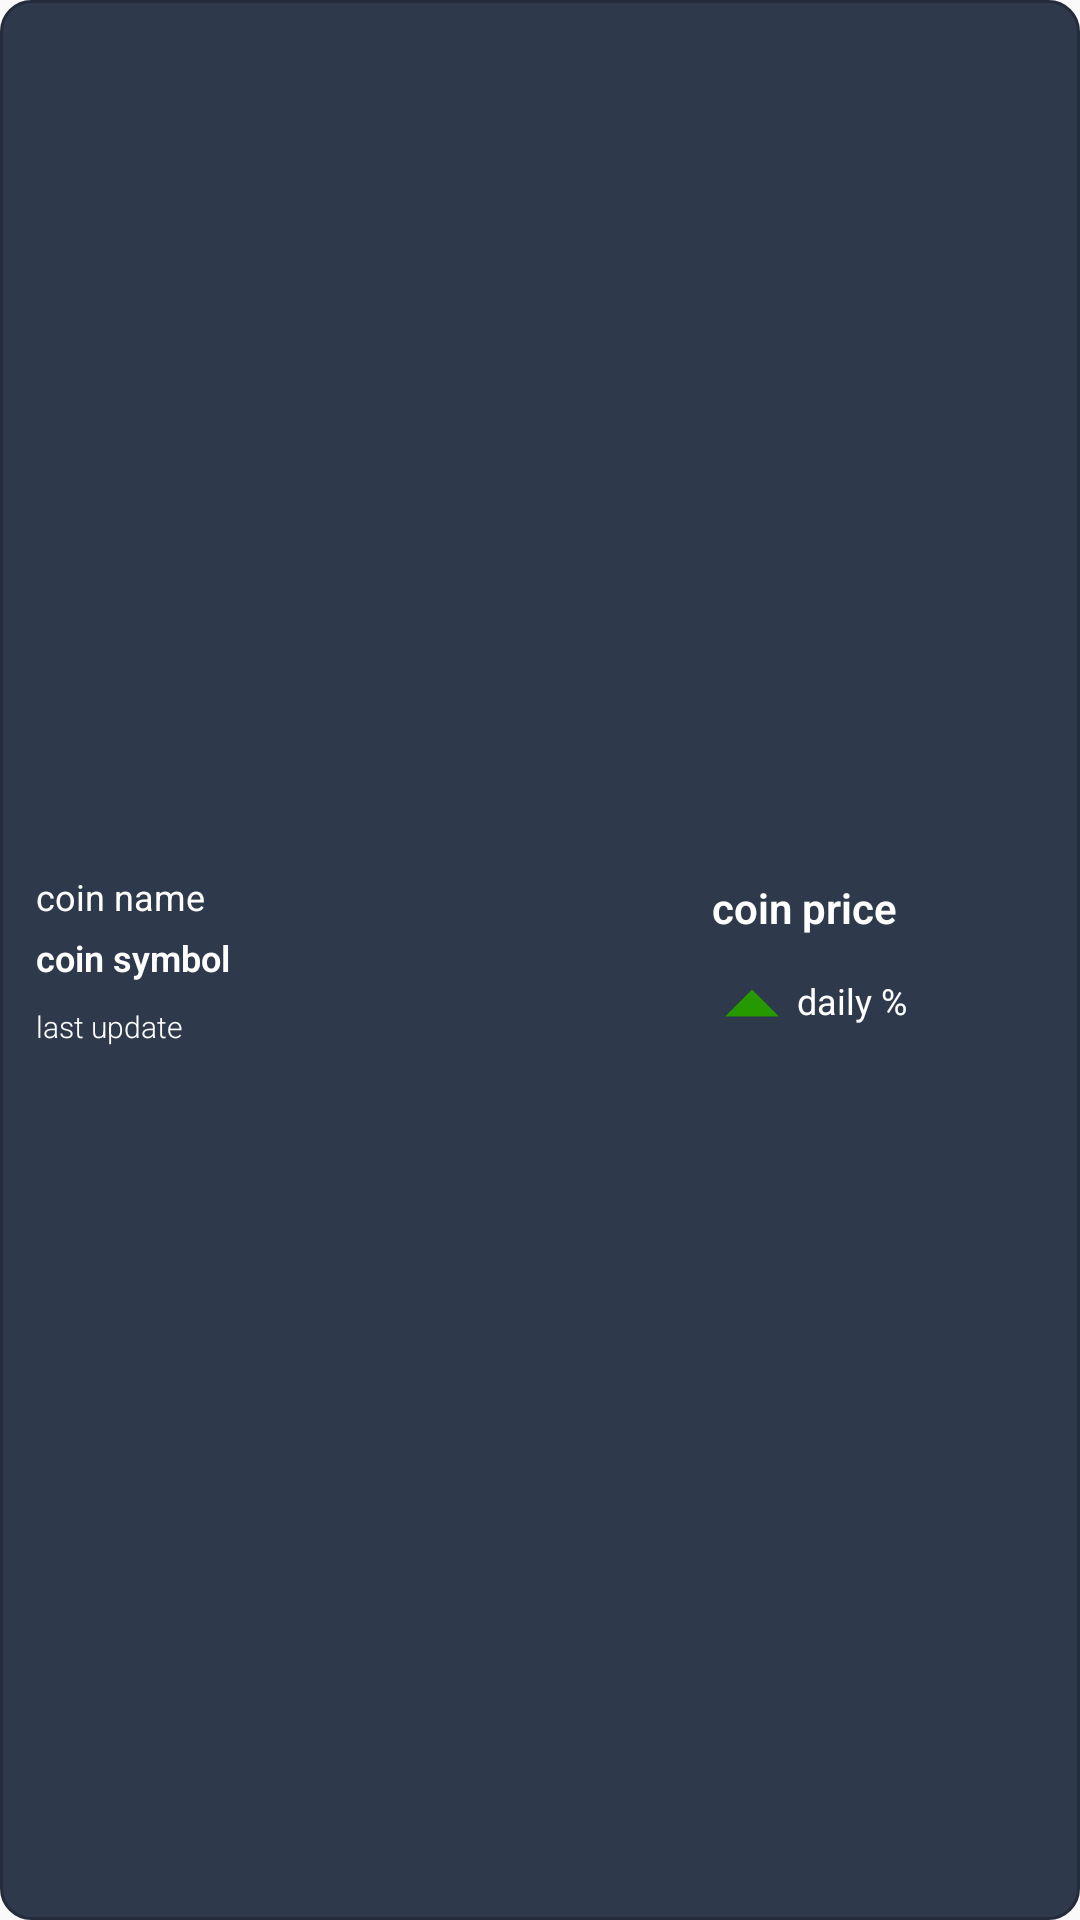

Icons on this 1080px x 1920px Android screen, each with the point to tap as (x=x, y=y):
arrow: (x=752, y=1003)
